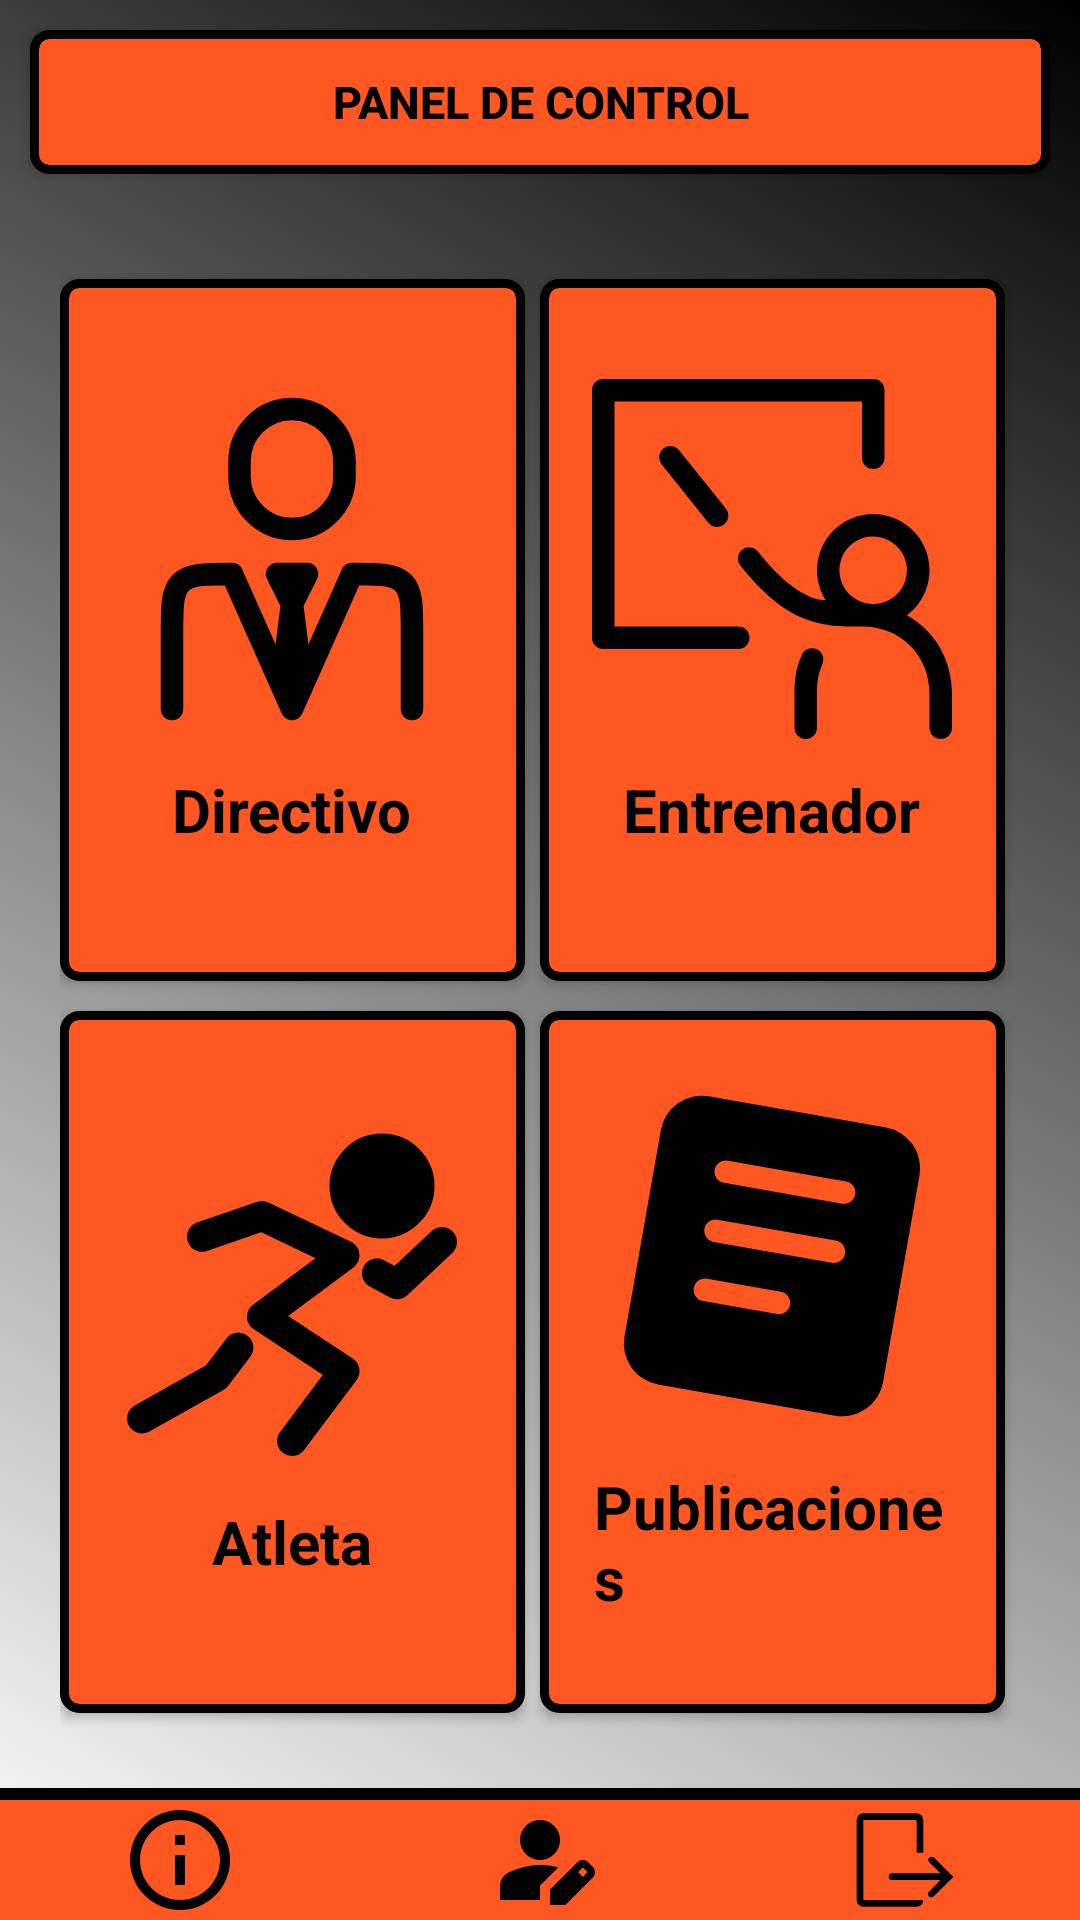

Icon bounding boxes for this 1080 × 1920 phone screenshot, format (x1, y1, x2, y2):
person edit: (500, 1820, 595, 1905)
